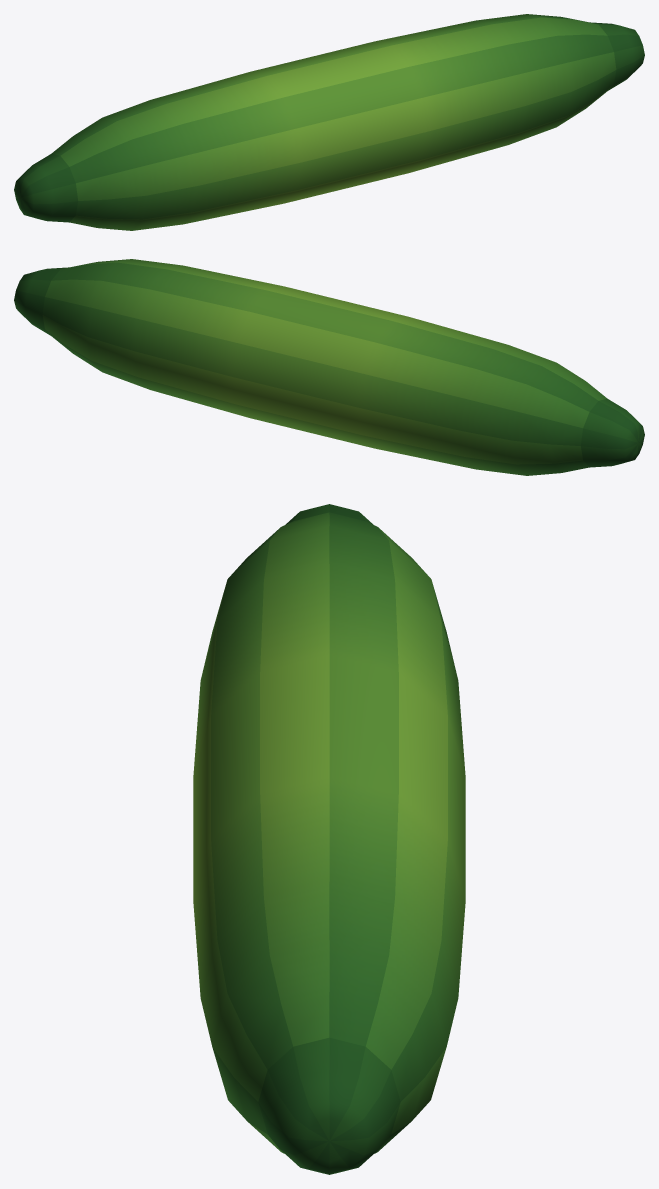
Rendered from Cucumber_02.glb.
3 views of the same model, one above another, from view 1: azimuth 30°, elevation 25°; view 2: azimuth 150°, elevation 25°; view 3: azimuth 270°, elevation 25° (orthographic). The views are drawn at different scales.
Parts seen in each view (by area): view 1: Cucumber_02; view 2: Cucumber_02; view 3: Cucumber_02.
Part boxes in pixels (x1,y1,x2,y2): Cucumber_02: [14, 14, 644, 230]; Cucumber_02: [14, 259, 644, 475]; Cucumber_02: [193, 504, 465, 1174].
Bounding box in the file's own units: 0.7029 × 0.1341 × 0.1341.
Materials: 1 (1 with a texture image).
